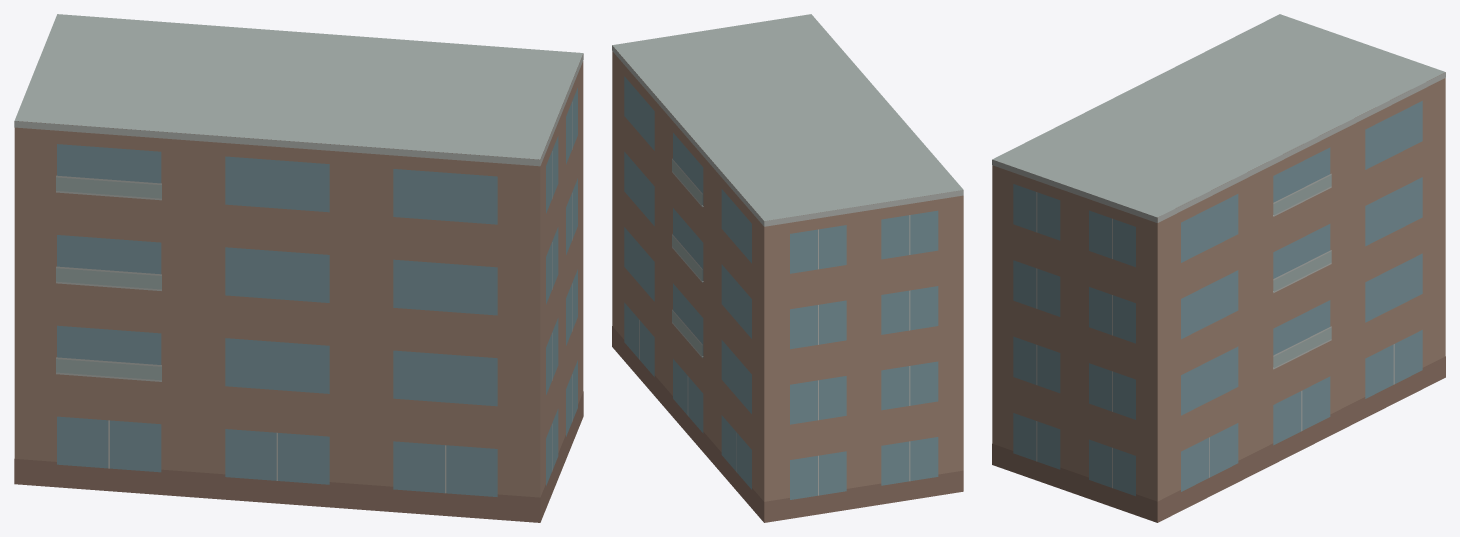
File: survey-upis-32891243.glb
3 views of the same model, side by side, from view 1: azimuth 30°, elevation 25°; view 2: azimuth 150°, elevation 25°; view 3: azimuth 270°, elevation 25° (orthographic). The views are drawn at different scales.
Visible parts, largest first — view 1: survey-upis-32891243.tmp; view 2: survey-upis-32891243.tmp; view 3: survey-upis-32891243.tmp.
Part boxes in pixels (<box>): survey-upis-32891243.tmp: <box>14,14,583,522</box>; survey-upis-32891243.tmp: <box>612,14,963,522</box>; survey-upis-32891243.tmp: <box>992,14,1445,522</box>.
Size of the model in its own units: 18.8 by 13.15 by 17.71.
